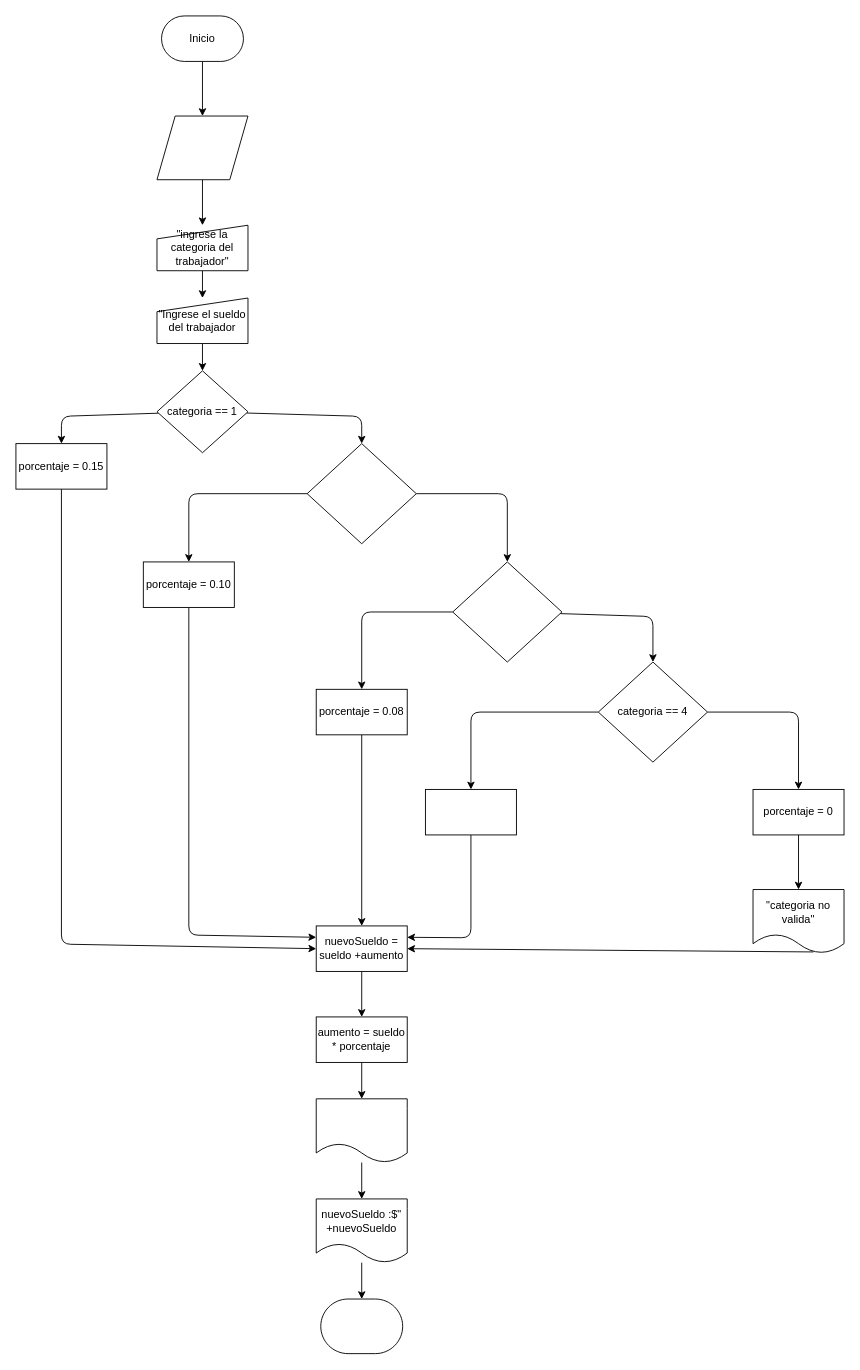
The diagram is 860 pixels wide and 1370 high, and some of its shapes have lost their labels. The shapes that lost their labels are listed below. From the top down, each one's box as (x1, y1, x2, y2) in pixels, then its label:
(156, 115, 248, 180): sueldo, porcentaje, aumento, nuevoSueldo
(306, 443, 416, 544): categoria == 2
(452, 561, 562, 662): categoria == 3
(425, 789, 516, 835): porcentaje = 0.07
(315, 1098, 407, 1163): "aumento : $" +aumento
(320, 1298, 403, 1354): Fin
